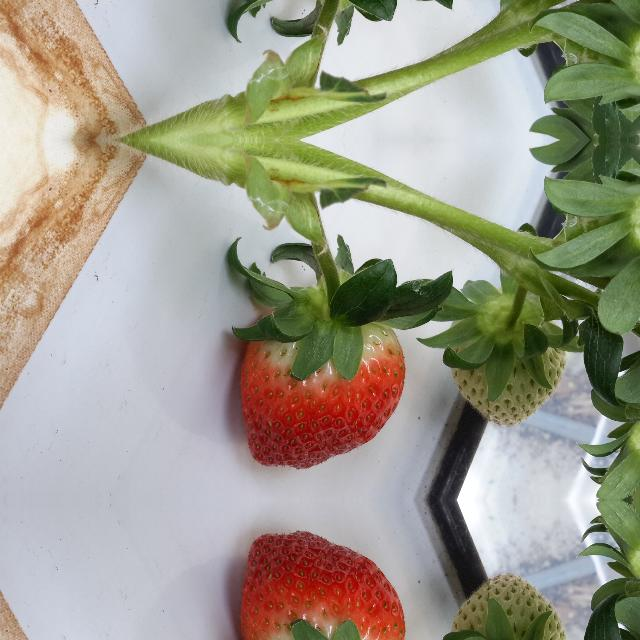Health_100: (238, 318, 408, 470), (238, 529, 408, 640)
Health_25: (447, 284, 565, 424), (447, 575, 565, 640)
